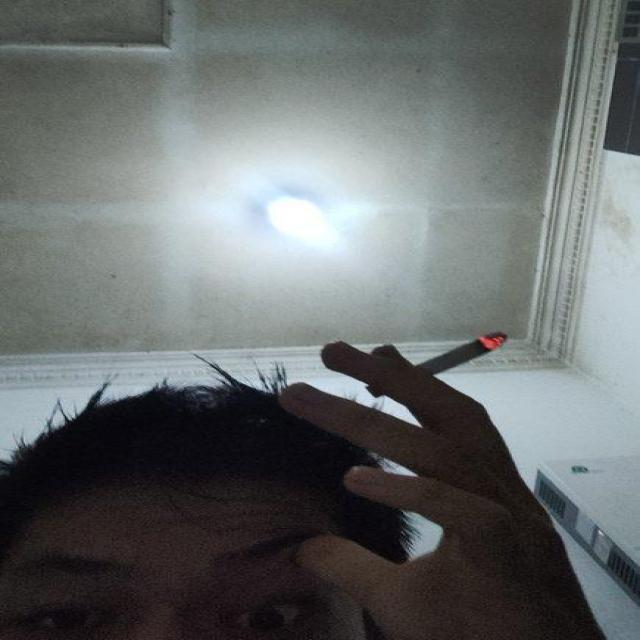rokok: (372, 332, 512, 402)
